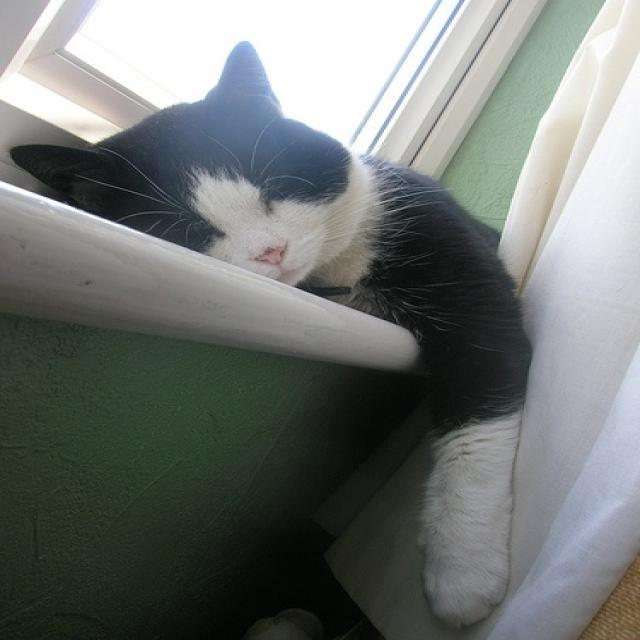cat: (7, 41, 527, 631)
